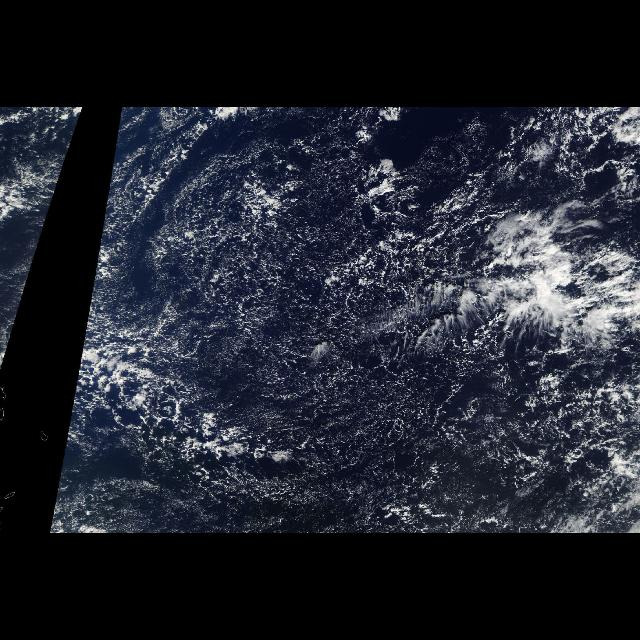Gravel: (134, 150, 556, 532)
